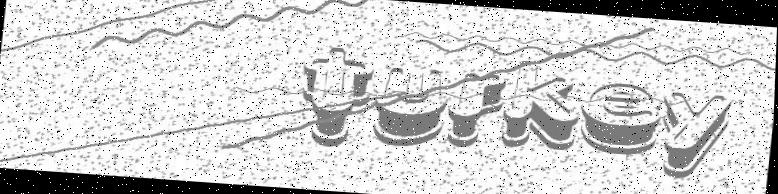e: (576, 79, 666, 155)
k: (500, 58, 585, 155)
r: (444, 67, 509, 151)
t: (293, 41, 380, 150)
u: (369, 62, 453, 149)
y: (655, 88, 735, 182)
